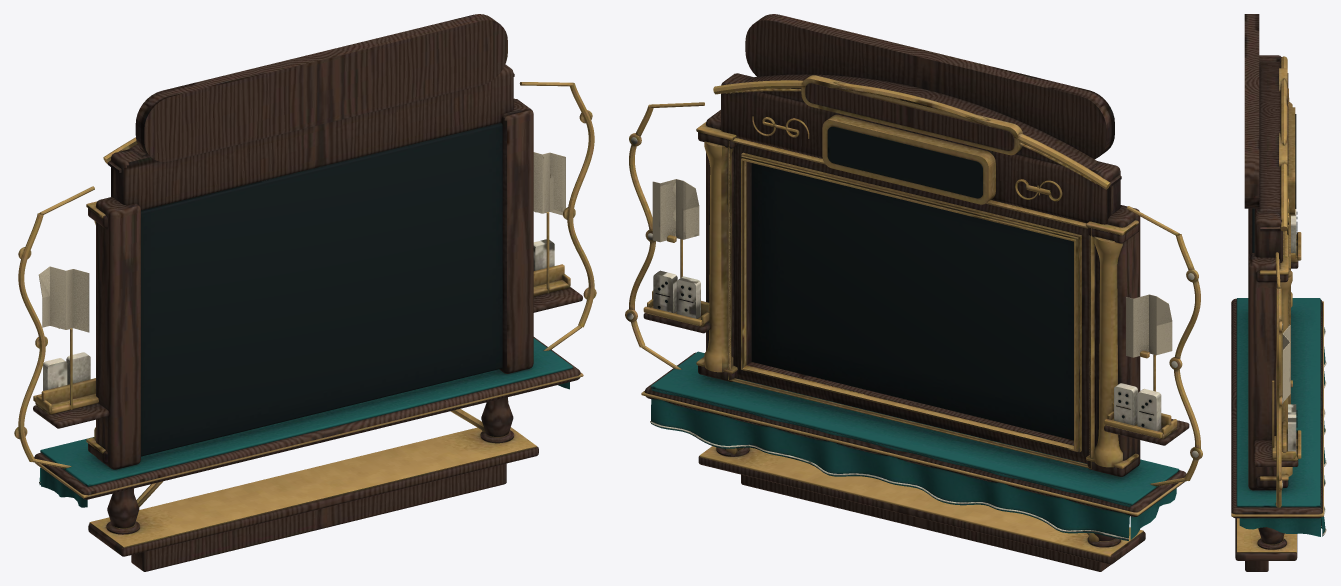
The picture shows the model from 3 angles, left to right: view 1: azimuth 30°, elevation 25°; view 2: azimuth 150°, elevation 25°; view 3: azimuth 270°, elevation 25°; orthographic projection. The views are drawn at different scales.
Visible parts, largest first — view 1: Uniform_dark_inset, Warm_touring_walnut, Aged_satin_brass, Teal_woven_cloth, Unprinted_warm_paper, Ivory_domino_enamel; view 2: Warm_touring_walnut, Uniform_dark_inset, Aged_satin_brass, Teal_woven_cloth, Unprinted_warm_paper, Ivory_domino_enamel; view 3: Warm_touring_walnut, Teal_woven_cloth, Aged_satin_brass, Ivory_domino_enamel, Unprinted_warm_paper, Uniform_dark_inset.
Part boxes in pixels (x1,y1,x2,y2): Uniform_dark_inset: (141, 123, 502, 456); Warm_touring_walnut: (33, 14, 582, 571); Aged_satin_brass: (14, 82, 596, 547); Teal_woven_cloth: (39, 338, 572, 507); Unprinted_warm_paper: (38, 152, 565, 332); Ivory_domino_enamel: (39, 239, 554, 483); Warm_touring_walnut: (643, 14, 1189, 571); Uniform_dark_inset: (657, 126, 1151, 440); Aged_satin_brass: (625, 75, 1202, 557); Teal_woven_cloth: (650, 351, 1179, 540); Unprinted_warm_paper: (652, 179, 1172, 357); Ivory_domino_enamel: (627, 137, 1198, 539); Warm_touring_walnut: (1231, 14, 1322, 571); Teal_woven_cloth: (1236, 298, 1325, 536); Aged_satin_brass: (1231, 56, 1323, 553); Ivory_domino_enamel: (1282, 209, 1326, 535); Unprinted_warm_paper: (1282, 324, 1290, 402); Uniform_dark_inset: (1252, 114, 1297, 448).
Size of the model in its own units: 11.9 by 9.2 by 1.93.
6 materials, 6 textured.
